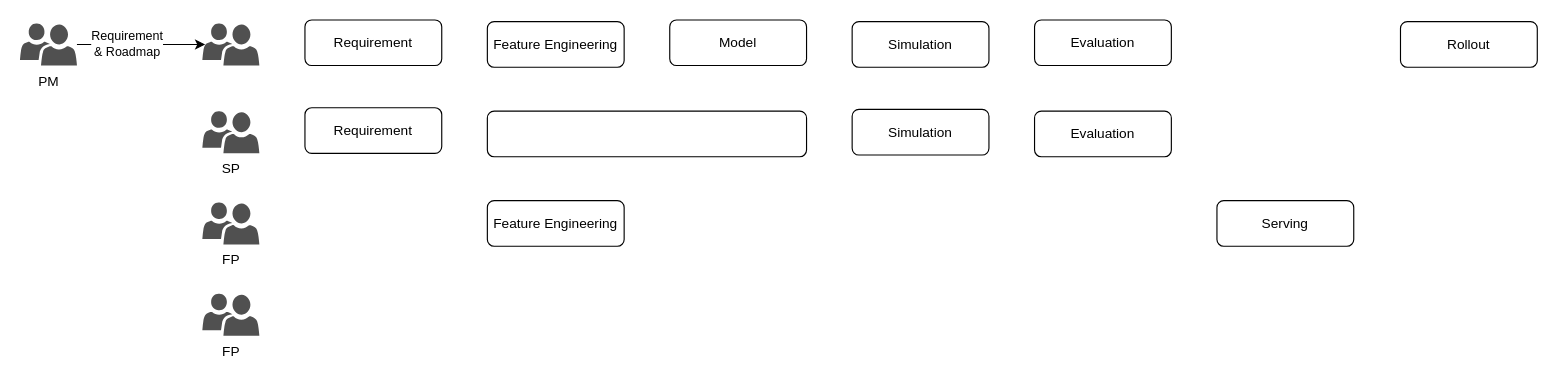
Some shapes in this 1557 by 380 pixel diagram are drawn without their labels. The shapes that lost their labels are listed below. From the top down, each one's centre as x and y in pixels, then its label:
At pixel 230 44: "AI".
At pixel 646 133: "Develop".
